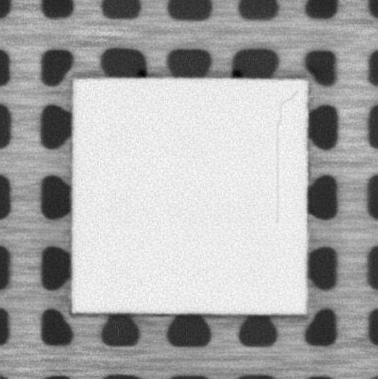DIE_CRACK: (272, 89, 301, 224)
